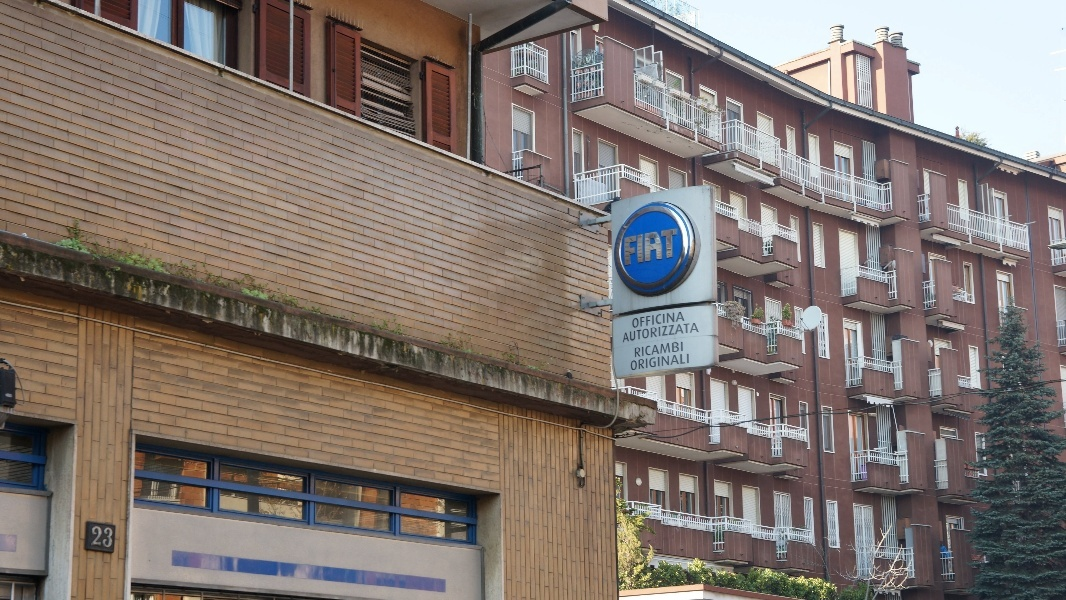text: (625, 228, 640, 267), (641, 228, 656, 267), (657, 228, 672, 267), (97, 526, 113, 548), (625, 322, 640, 343), (641, 322, 656, 343), (657, 322, 672, 343), (673, 322, 688, 343), (641, 311, 656, 329), (657, 311, 672, 329), (641, 353, 656, 371), (657, 353, 672, 371), (673, 353, 688, 371), (641, 341, 656, 358), (657, 341, 672, 358), (689, 322, 700, 343), (673, 311, 685, 329), (673, 228, 678, 267), (673, 341, 684, 358), (631, 353, 640, 371), (633, 311, 640, 329), (92, 526, 96, 548), (635, 341, 640, 358), (689, 353, 690, 371)
